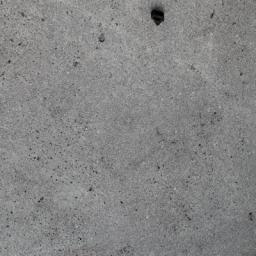FOD: (149, 8, 168, 29)
